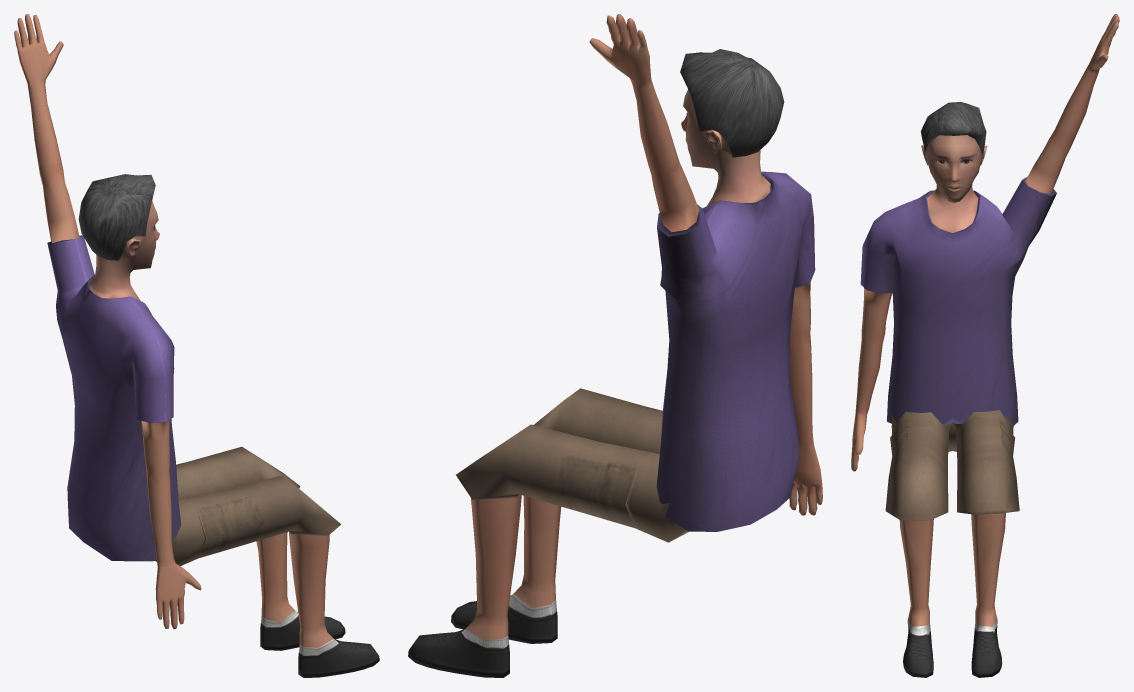
File: seated_left.dae
The picture shows the model from 3 angles, left to right: view 1: azimuth 30°, elevation 25°; view 2: azimuth 150°, elevation 25°; view 3: azimuth 270°, elevation 25°; orthographic projection. The views are drawn at different scales.
Parts seen in each view (by area): view 1: StaticHuman; view 2: StaticHuman; view 3: StaticHuman.
Part boxes in pixels (x1,y1,x2,y2): StaticHuman: [14, 14, 379, 677]; StaticHuman: [408, 14, 822, 677]; StaticHuman: [851, 14, 1119, 677].
Bounding box in the file's own units: 0.7218 × 0.6765 × 1.55.
1 material, 1 textured.
